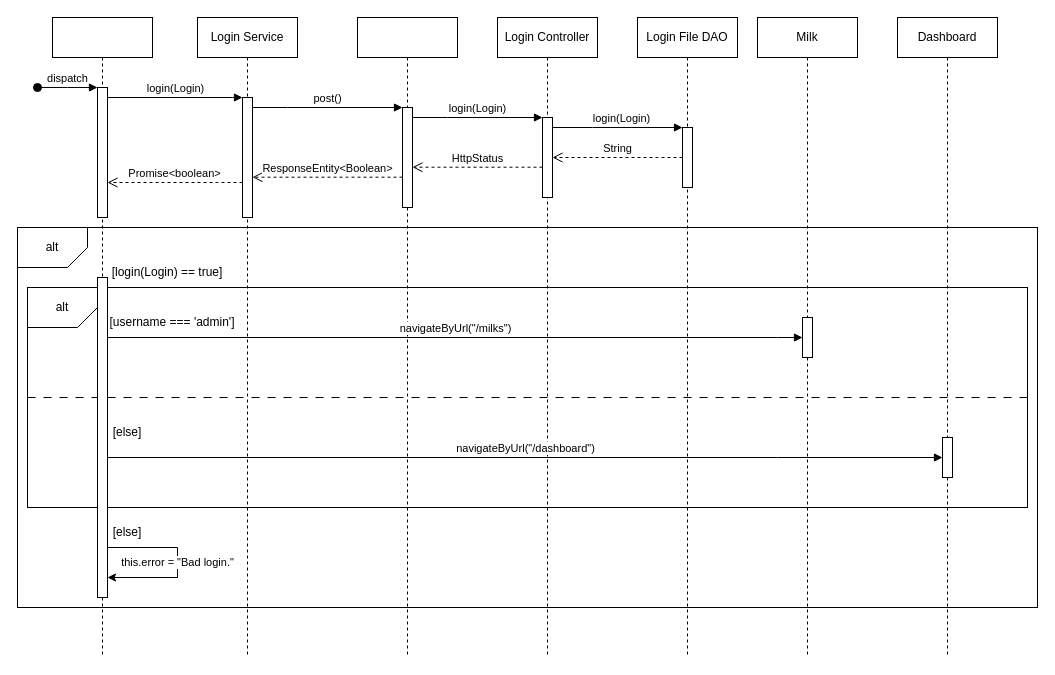
Image size: 1055x675. Some labels were removed from this diagram. The box of each missing label's shape, as (x1, y1, x2, y2) in pixels:
HTTP Client: (356, 16, 458, 658)
Login Component: (52, 16, 152, 658)
